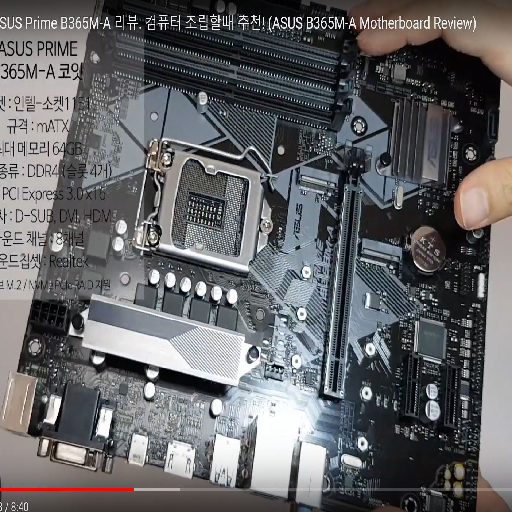CPU: (130, 137, 273, 276)
GPU: (318, 139, 374, 401)
MOTHERBOARD: (10, 1, 502, 507)
RAM: (96, 1, 360, 137)
SSD: (296, 164, 338, 198), (358, 238, 402, 270)
